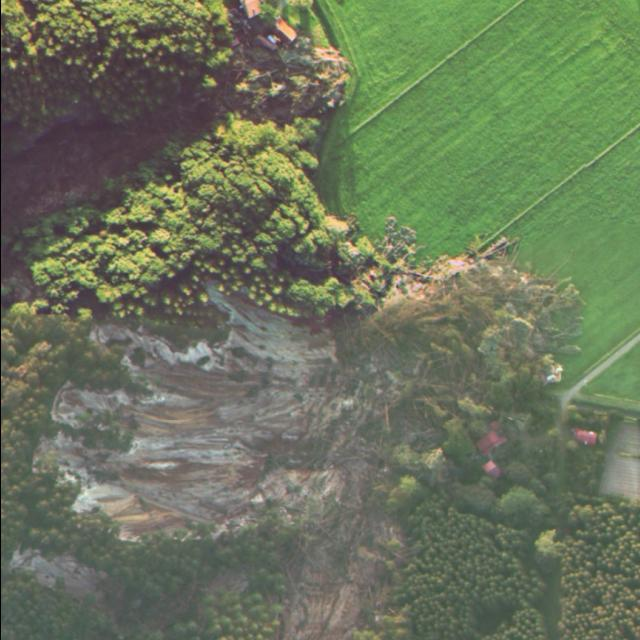landslide: (37, 294, 335, 541), (282, 584, 360, 640)
